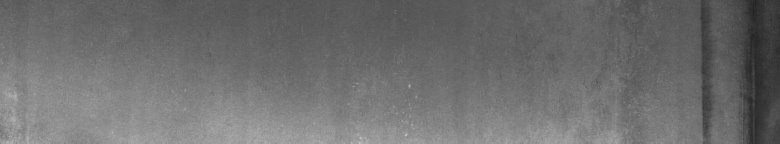ka: (688, 4, 774, 136)
